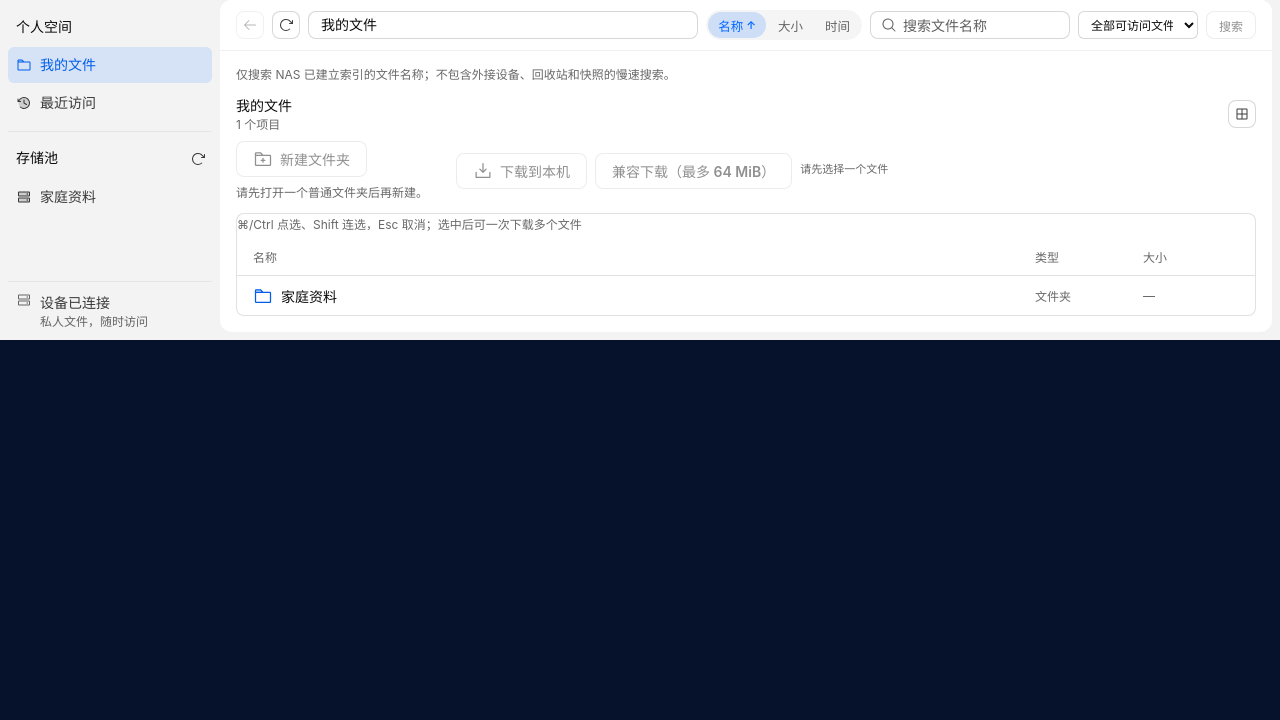
Scenario: rejects late search results after clear changes
Click the button named "家庭资料文件夹": (309, 296) left=237, top=275, right=1255, bottom=315
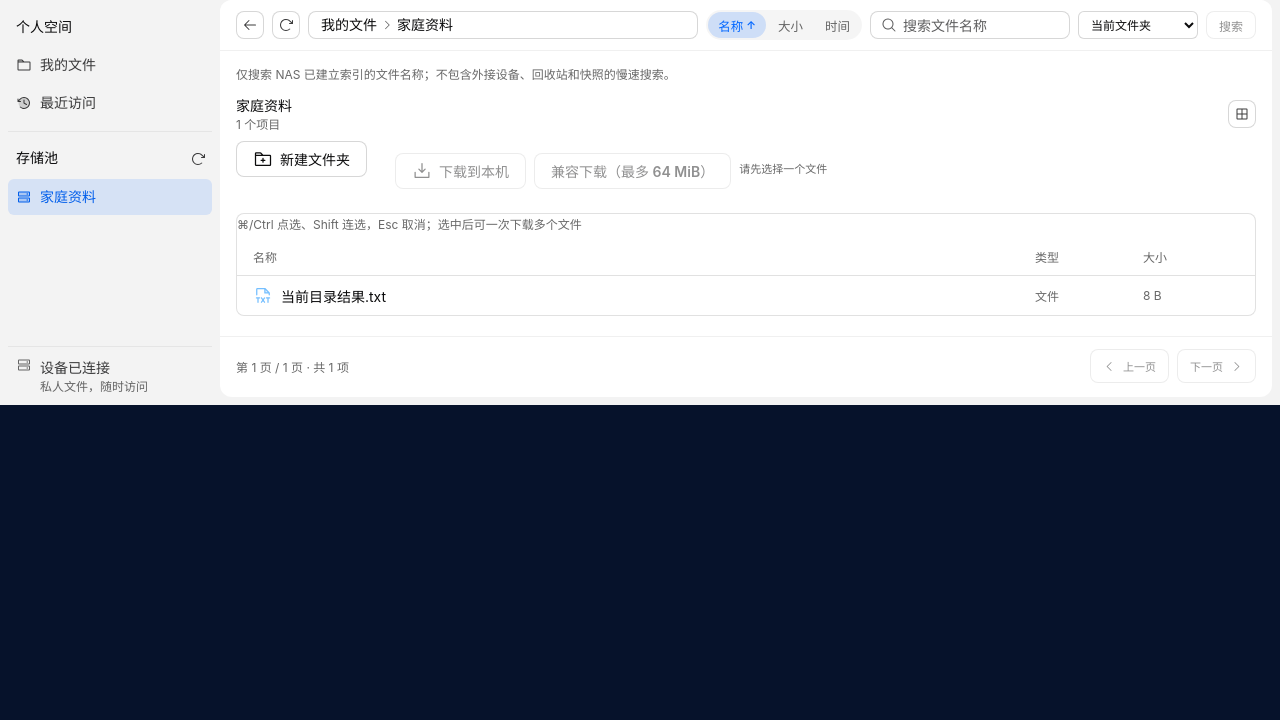
Expected: the text "当前目录结果.txt" is shown, left=253, top=286, right=386, bottom=306
In the field labelled "搜索文件名称": (981, 25) left=903, top=12, right=1059, bottom=38, type "旧查询"
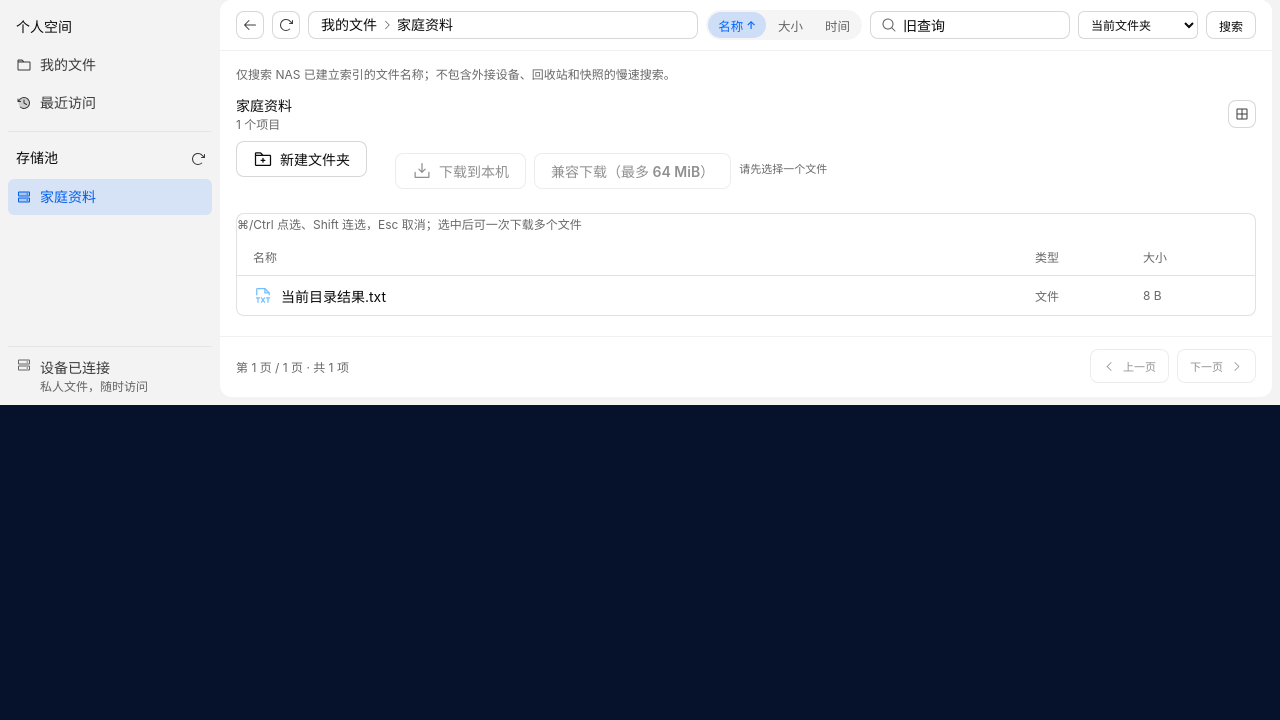
Click the button "搜索": (1231, 25) left=1206, top=11, right=1256, bottom=39
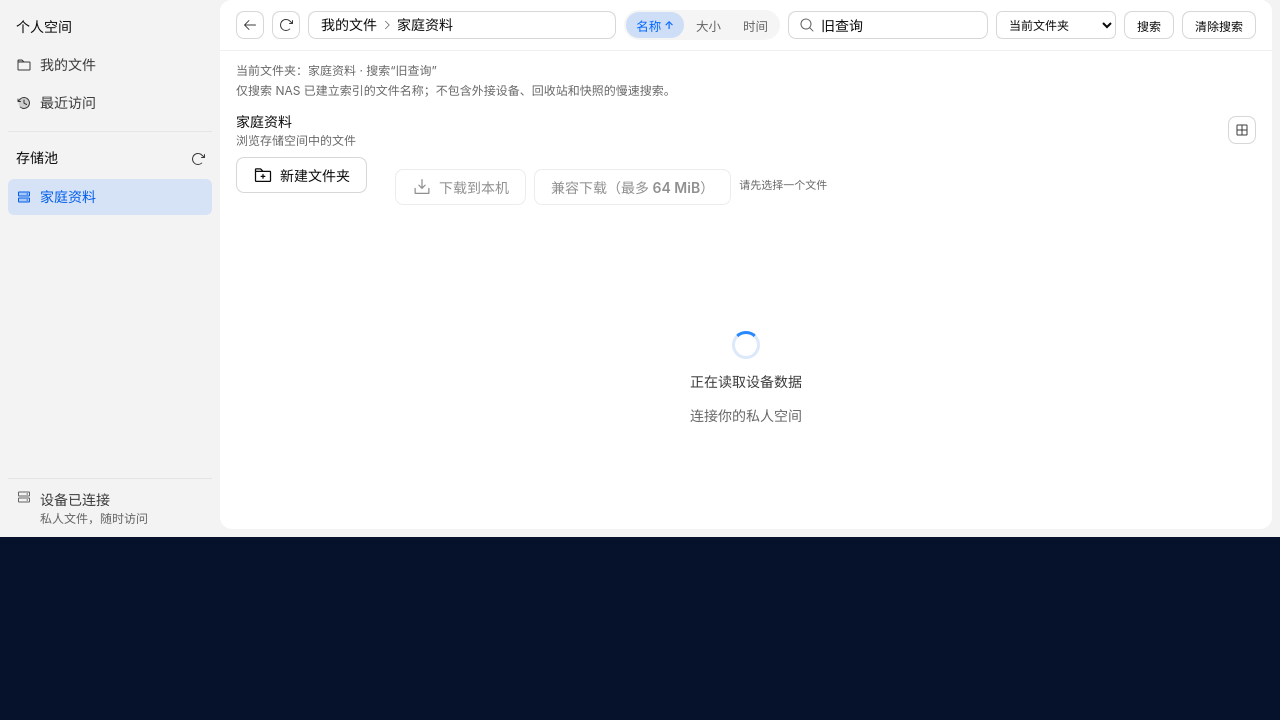
Click the button "清除搜索": (1219, 25) left=1182, top=11, right=1256, bottom=39
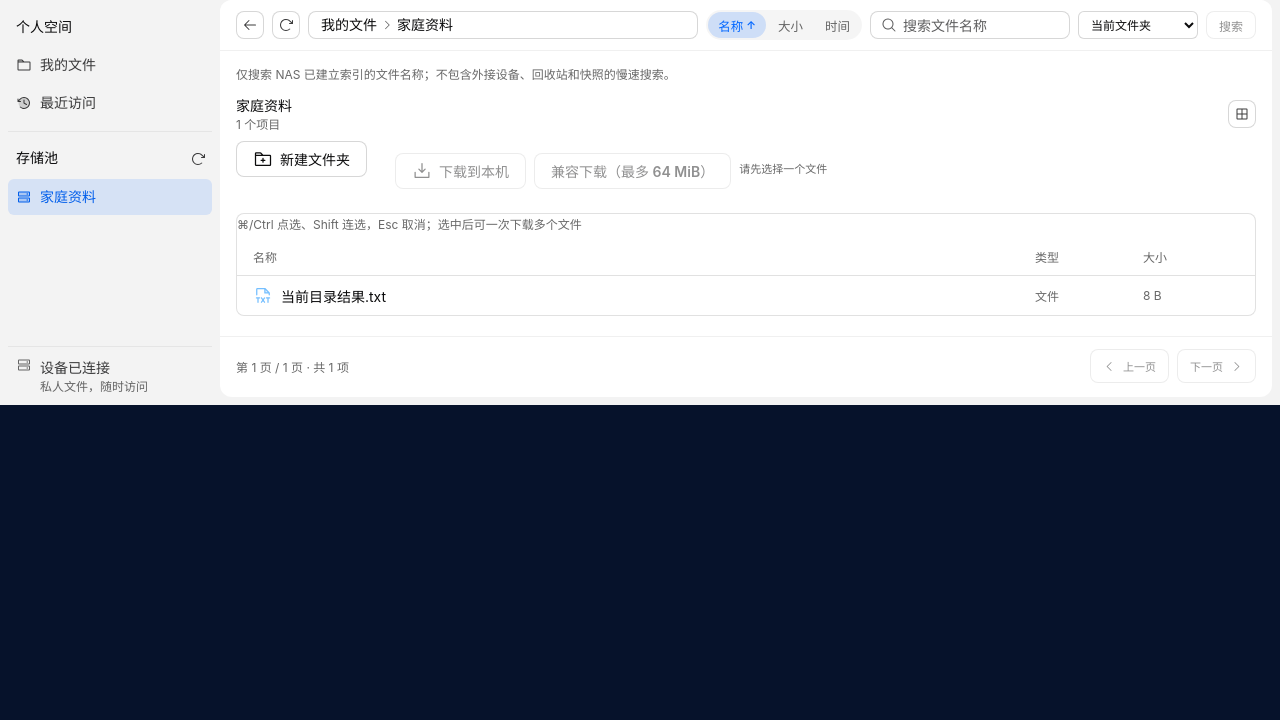
Expected: the text "当前目录结果.txt" is shown, left=253, top=286, right=386, bottom=306
